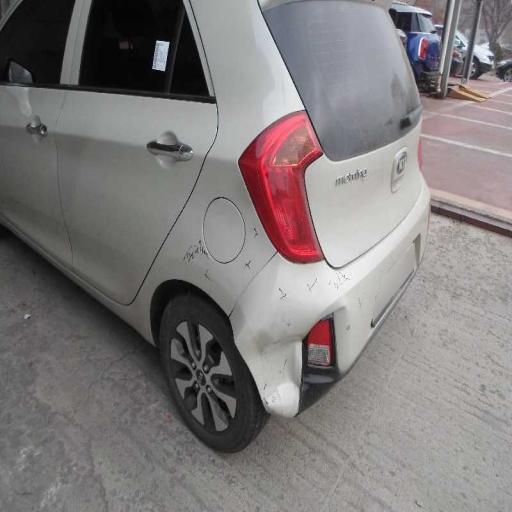dent: (240, 305, 309, 419)
scratch: (177, 205, 358, 307)
